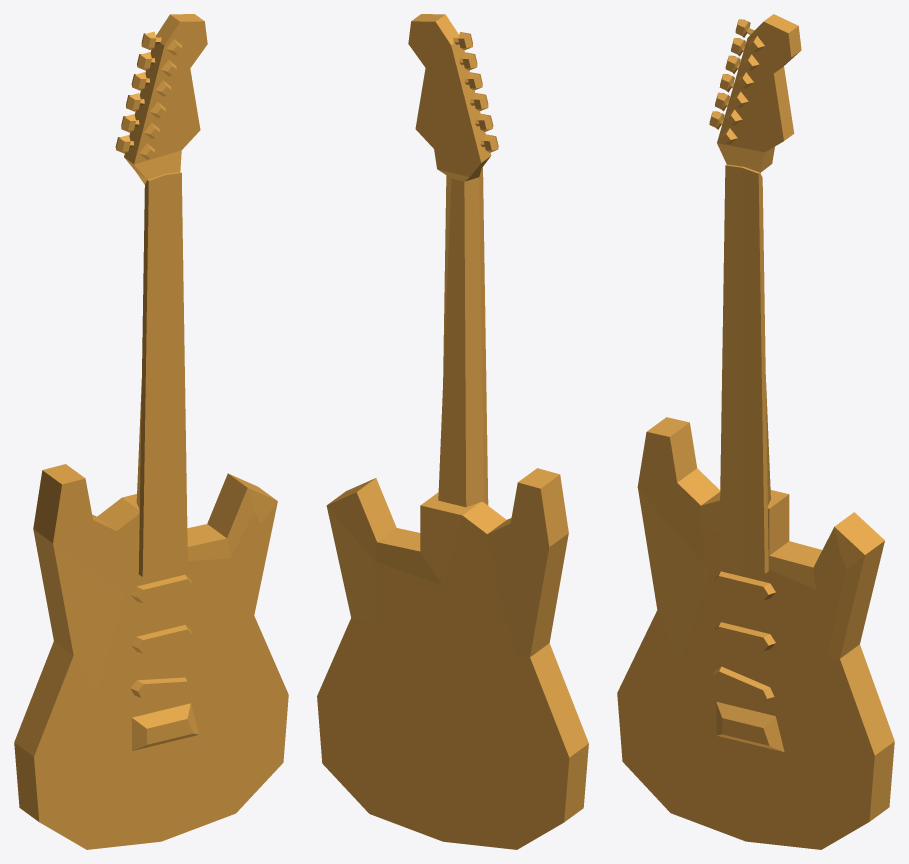
The model's file is guitar-electric-country.fbx.
3 views of the same model, side by side, from view 1: azimuth 30°, elevation 25°; view 2: azimuth 150°, elevation 25°; view 3: azimuth 330°, elevation 25° (orthographic). The views are drawn at different scales.
Visible parts, largest first — view 1: guitar-electric-country; view 2: guitar-electric-country; view 3: guitar-electric-country.
Part boxes in pixels (x1=…): guitar-electric-country: x1=14, y1=14, x2=288, y2=849; guitar-electric-country: x1=317, y1=14, x2=588, y2=849; guitar-electric-country: x1=617, y1=14, x2=894, y2=849.
Bounding box in the file's own units: 0.3288 × 1.01 × 0.0556.
